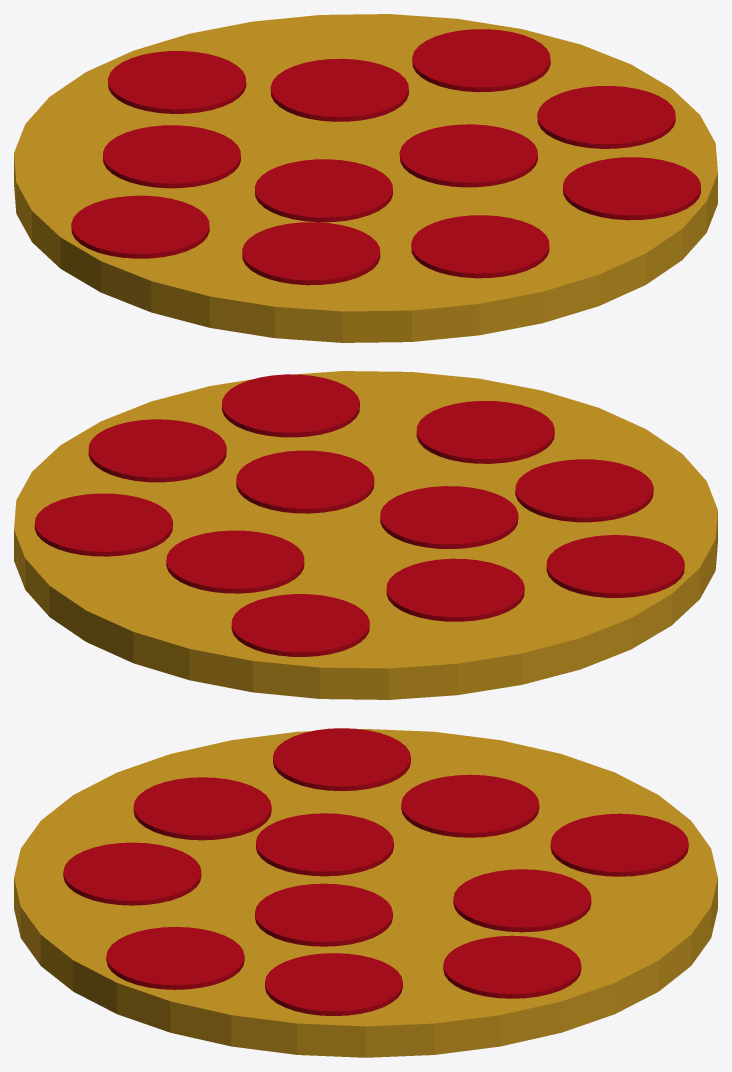
The model's file is pizza_v2.glb.
The picture shows the model from 3 angles, top to bottom: view 1: azimuth 30°, elevation 25°; view 2: azimuth 150°, elevation 25°; view 3: azimuth 270°, elevation 25°; orthographic projection.
Visible parts, largest first — view 1: Cylinder, Cylinder.011, Cylinder.003, Cylinder.009, Cylinder.007, Cylinder.002, Cylinder.001, Cylinder.005, Cylinder.008, Cylinder.006, Cylinder.004, Cylinder.010; view 2: Cylinder, Cylinder.001, Cylinder.007, Cylinder.005, Cylinder.006, Cylinder.011, Cylinder.003, Cylinder.002, Cylinder.004, Cylinder.008, Cylinder.010, Cylinder.009; view 3: Cylinder, Cylinder.009, Cylinder.001, Cylinder.002, Cylinder.008, Cylinder.010, Cylinder.011, Cylinder.005, Cylinder.006, Cylinder.004, Cylinder.007, Cylinder.003.
Boxes of the visible parts, x1,y1,x2,y2 form: Cylinder: [14, 14, 717, 342]; Cylinder.011: [399, 124, 537, 187]; Cylinder.003: [71, 195, 209, 258]; Cylinder.009: [411, 215, 549, 278]; Cylinder.007: [537, 86, 675, 148]; Cylinder.002: [103, 125, 240, 188]; Cylinder.001: [242, 222, 380, 285]; Cylinder.005: [412, 29, 550, 92]; Cylinder.008: [255, 159, 392, 222]; Cylinder.006: [270, 58, 408, 121]; Cylinder.004: [108, 51, 246, 113]; Cylinder.010: [563, 157, 700, 220]; Cylinder: [14, 371, 717, 699]; Cylinder.001: [515, 459, 653, 522]; Cylinder.007: [88, 419, 226, 482]; Cylinder.005: [34, 493, 172, 556]; Cylinder.006: [166, 530, 304, 593]; Cylinder.011: [236, 450, 374, 513]; Cylinder.003: [546, 535, 684, 597]; Cylinder.002: [386, 558, 524, 621]; Cylinder.004: [231, 594, 369, 656]; Cylinder.008: [380, 486, 518, 548]; Cylinder.010: [222, 374, 359, 437]; Cylinder.009: [416, 401, 554, 463]; Cylinder: [14, 729, 717, 1057]; Cylinder.009: [63, 842, 201, 905]; Cylinder.001: [133, 777, 271, 840]; Cylinder.002: [401, 774, 539, 837]; Cylinder.008: [256, 813, 393, 876]; Cylinder.010: [106, 927, 244, 989]; Cylinder.011: [255, 883, 392, 946]; Cylinder.005: [443, 935, 581, 998]; Cylinder.006: [453, 869, 591, 932]; Cylinder.004: [550, 813, 688, 876]; Cylinder.007: [265, 953, 402, 1015]; Cylinder.003: [273, 728, 410, 791].
Size of the model in its own units: 2 by 0.113 by 2.
